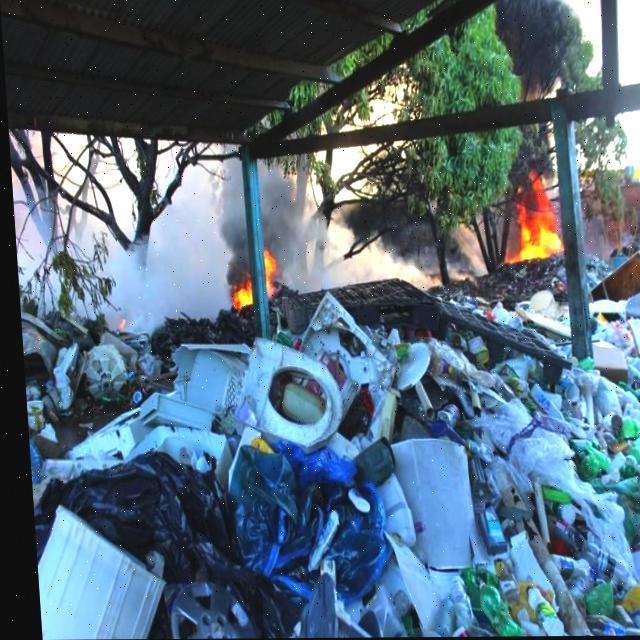Fire: (499, 172, 560, 258), (226, 275, 251, 316), (256, 245, 274, 298)
